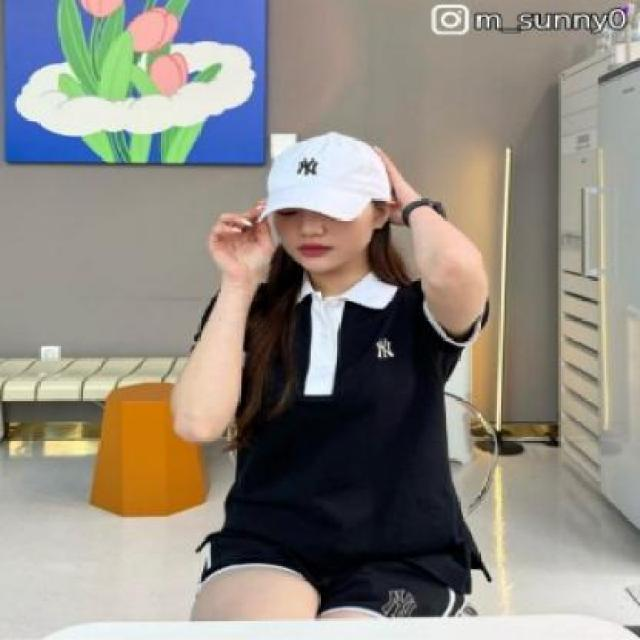hat: (257, 130, 392, 222)
